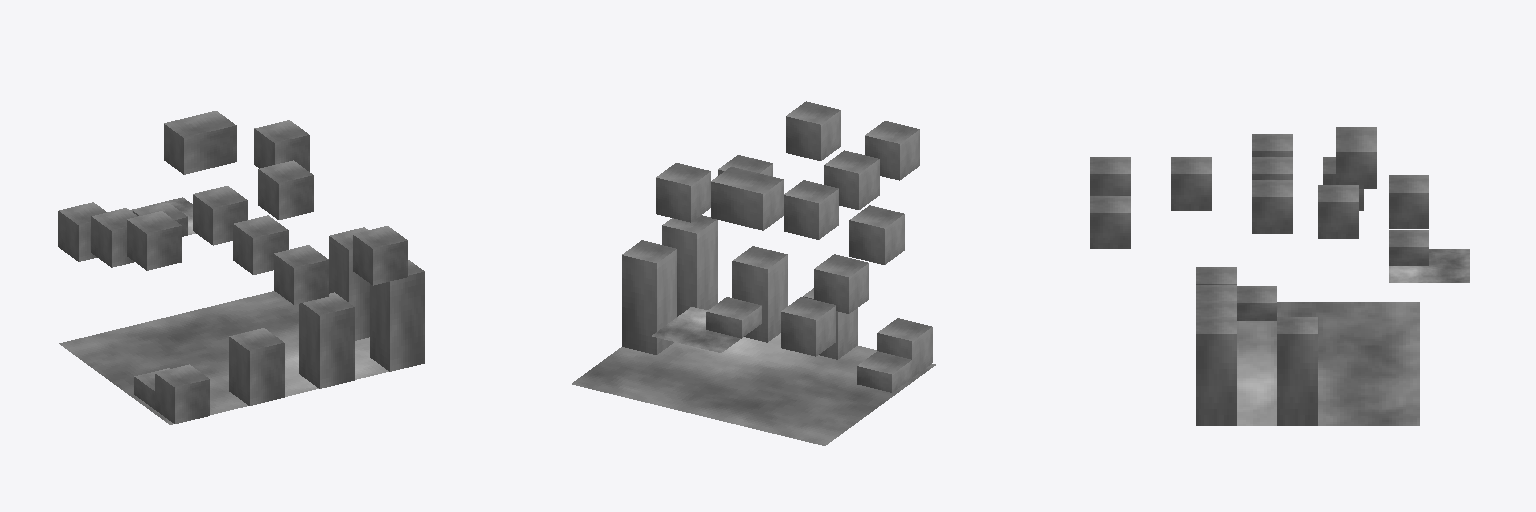
3 views of the same model, side by side, from view 1: azimuth 30°, elevation 25°; view 2: azimuth 150°, elevation 25°; view 3: azimuth 270°, elevation 25° (orthographic).
Visible parts, largest first — view 1: 平面; view 2: 平面; view 3: 平面.
Part boxes in pixels (left/top/right/bottom): 平面: left=58, top=111, right=424, bottom=424; 平面: left=572, top=101, right=935, bottom=445; 平面: left=1090, top=127, right=1469, bottom=425.
Size of the model in its own units: 29 by 23.5 by 37.5.
1 materials, 1 textured.